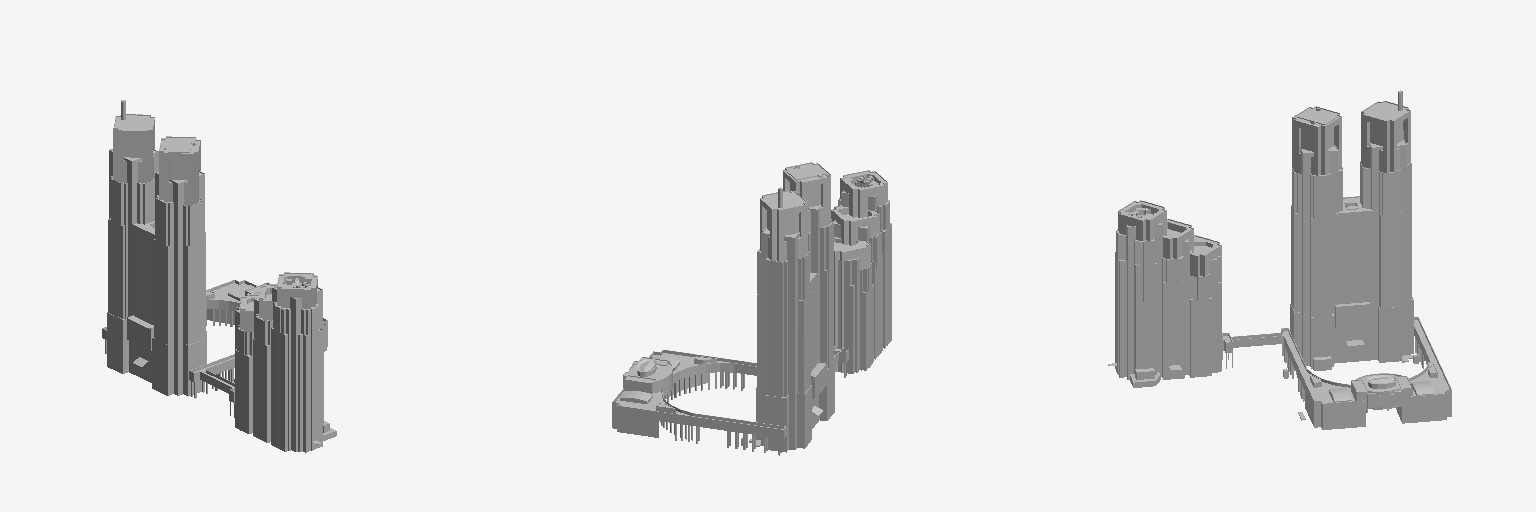
The model's file is totyou.obj.
The picture shows the model from 3 angles: view 1: azimuth 30°, elevation 25°; view 2: azimuth 150°, elevation 25°; view 3: azimuth 270°, elevation 25°; orthographic projection.
Visible parts, largest first — view 1: [number redacted]_bldg_6677; view 2: [number redacted]_bldg_6677; view 3: [number redacted]_bldg_6677.
Part boxes in pixels (left/top/right/bottom): [number redacted]_bldg_6677: left=102, top=100, right=336, bottom=452; [number redacted]_bldg_6677: left=612, top=162, right=891, bottom=455; [number redacted]_bldg_6677: left=1108, top=90, right=1451, bottom=429.
Bounding box in the file's own units: 197 × 262 × 316.